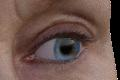eye: (54, 37, 80, 60)
